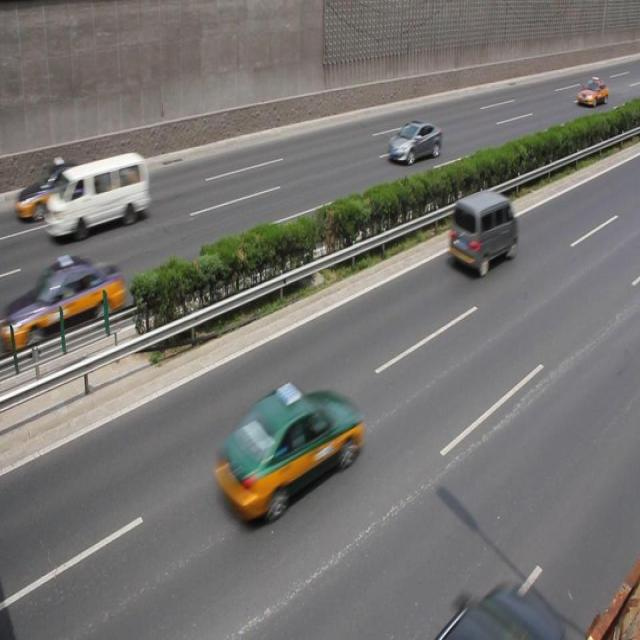car: (213, 379, 360, 522), (18, 255, 126, 352), (433, 575, 562, 640), (25, 159, 92, 220), (388, 122, 442, 165), (576, 76, 607, 108)
truck: (52, 150, 148, 240), (449, 192, 516, 273)
